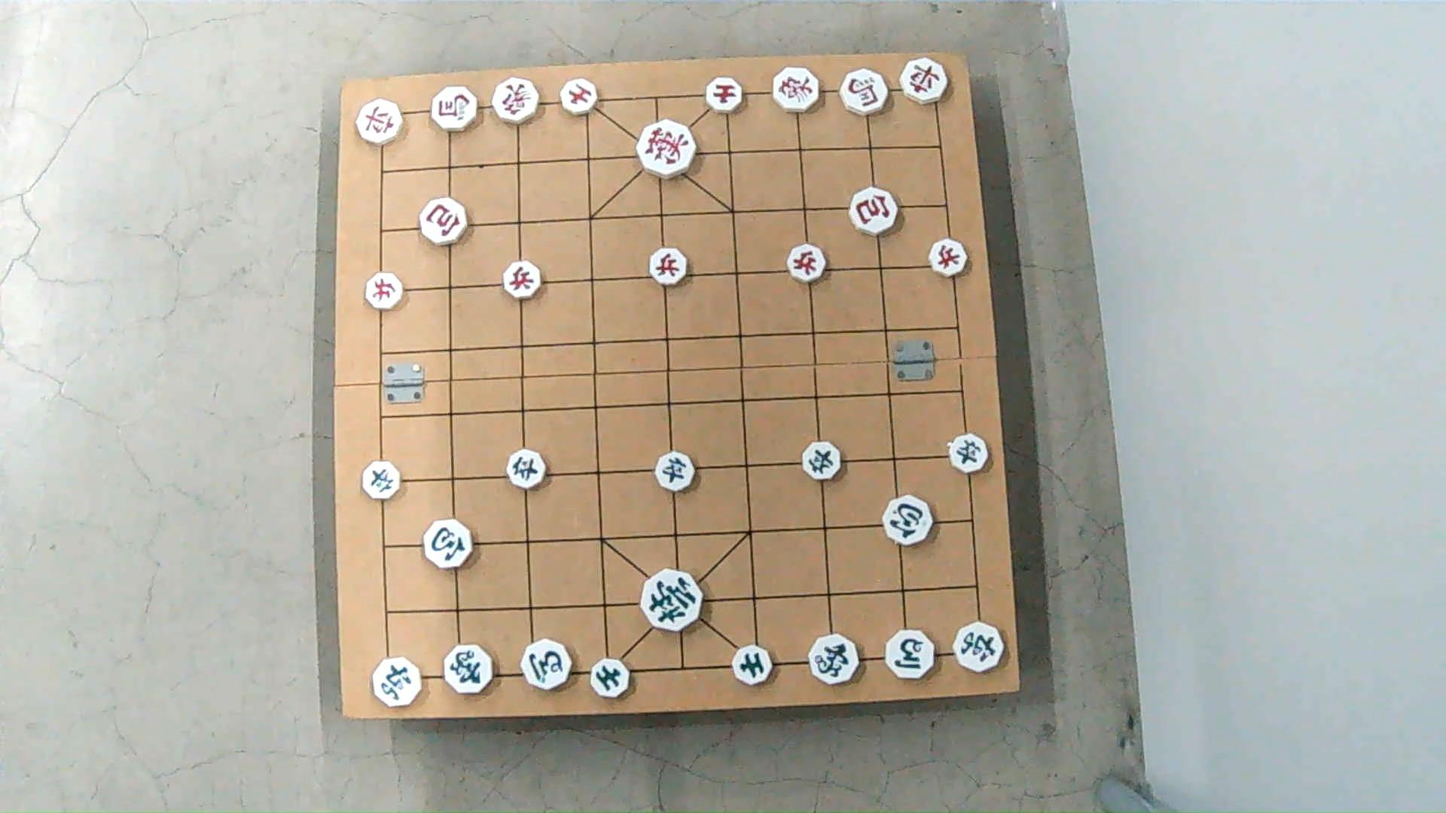cha_green: (952, 620, 1005, 673), (374, 660, 427, 707)
cha_red: (898, 60, 949, 103), (355, 102, 404, 142)
jol_green: (801, 444, 846, 480), (945, 436, 992, 470), (652, 455, 699, 489), (502, 450, 545, 487), (363, 465, 405, 500)
jol_red: (928, 242, 971, 276), (787, 248, 830, 282), (499, 264, 541, 298), (366, 275, 409, 307), (647, 251, 687, 285)
ma_green: (883, 634, 938, 680), (521, 644, 575, 690)
ma_red: (838, 72, 890, 113), (427, 88, 478, 129)
po_green: (881, 500, 935, 544), (423, 523, 476, 567)
po_red: (850, 191, 902, 234), (419, 201, 469, 243)
sa_green: (590, 658, 633, 696), (731, 644, 773, 682)
sa_red: (560, 81, 599, 114), (704, 81, 745, 112)
sang_green: (444, 647, 497, 695), (807, 639, 861, 685)
sang_red: (771, 69, 823, 113), (490, 81, 539, 122)
wang_green: (641, 573, 705, 628)
wang_red: (634, 123, 697, 175)
